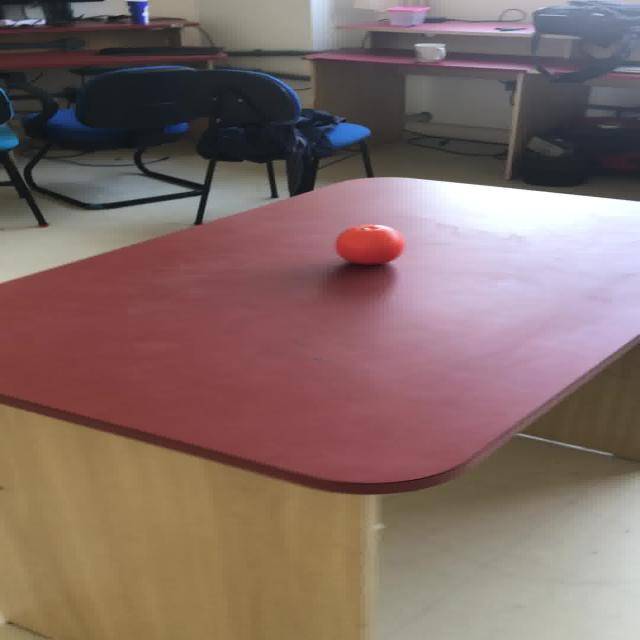orange: (334, 223, 404, 265)
